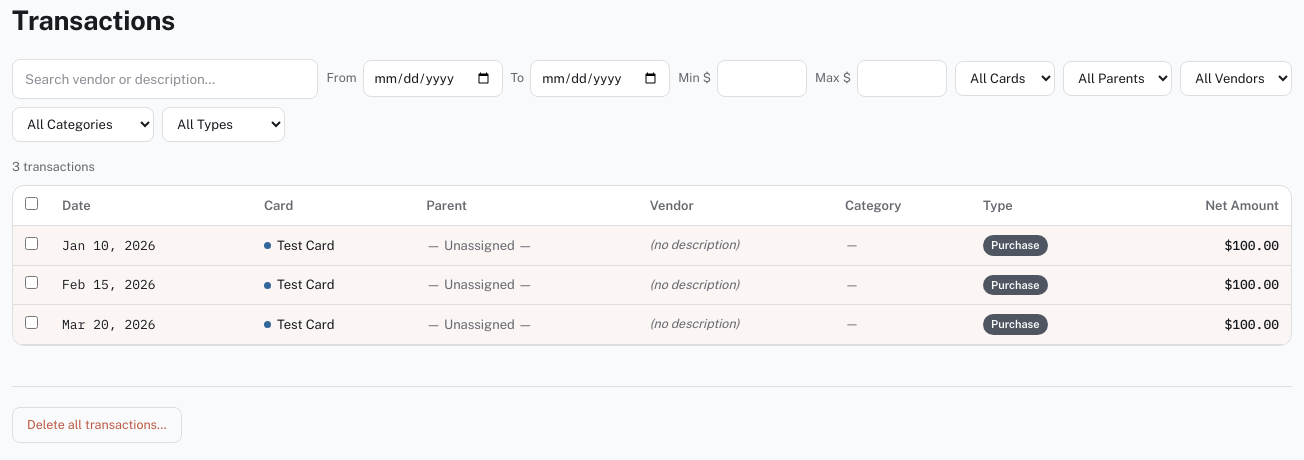
Scenario: Transactions date filter › keeps only transactions on or before the To date
Step 1. Type "2026-02-28" into the date field labelled "To" → (600, 79), box 530,60 -> 670,97
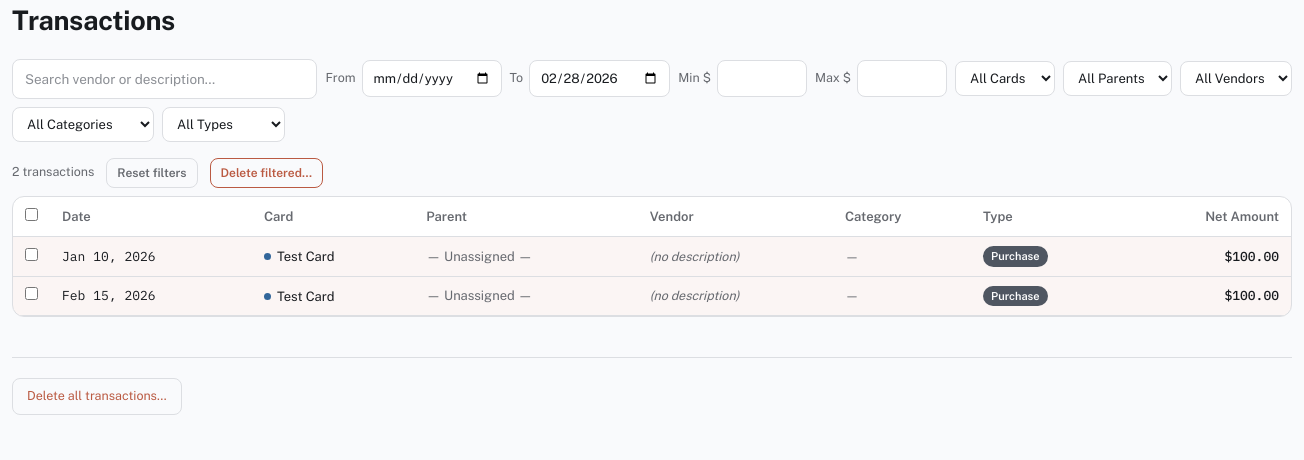
expect the text "Jan 10, 2026" is shown: met, box 50,237 -> 252,276
expect the text "2 transactions" is shown: met, box 12,163 -> 94,182
expect the text "Mar 20, 2026" is gone: met
